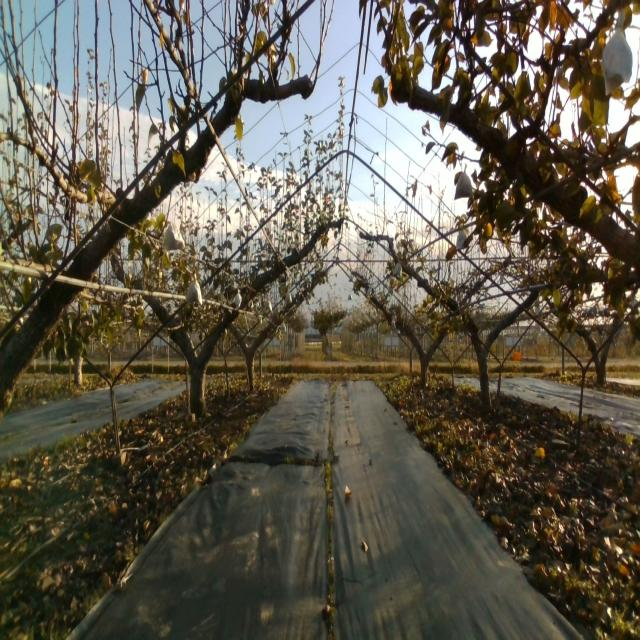pearbags: (600, 8, 634, 96), (453, 164, 473, 201), (165, 222, 185, 251), (186, 274, 203, 304), (456, 230, 467, 250)
